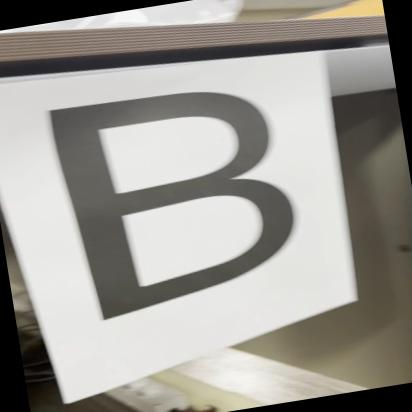seat: (26, 62, 348, 335)
